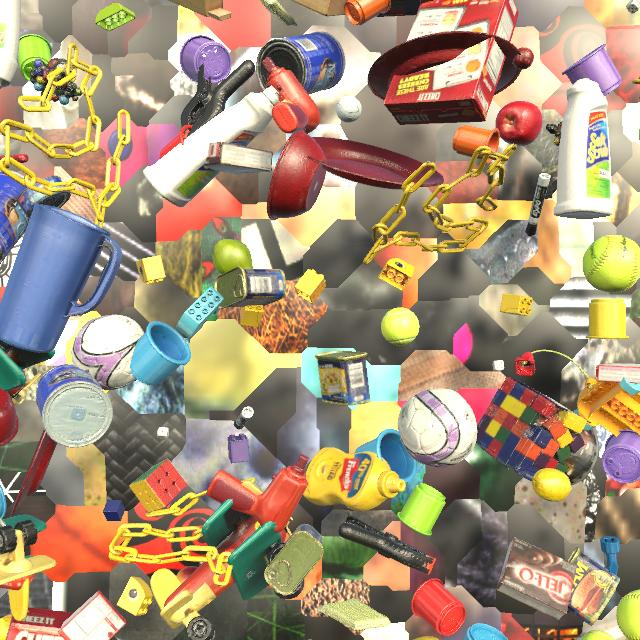ycb_002_master_chef_can: (35, 364, 113, 448), (256, 31, 345, 95), (0, 170, 31, 264)
ycb_003_cracker_box: (383, 0, 519, 125), (6, 608, 103, 640)
ycb_005_tomato_soup_can: (0, 518, 6, 527)
ycb_006_mustard_bottle: (303, 447, 406, 511)
ycb_007_tuna_fish_can: (16, 175, 71, 219)
ycb_008_pudding_box: (496, 537, 577, 620), (204, 142, 273, 174)
ycb_009_gelatin_box: (58, 590, 126, 640), (596, 363, 640, 384)
ycb_010_potted_meat_can: (264, 524, 323, 595), (567, 547, 620, 626), (315, 351, 370, 406), (214, 267, 286, 309)
ycb_011_banana: (413, 636, 439, 640)
ycb_013_apple: (495, 101, 543, 146)
ycb_014_lemon: (532, 468, 572, 502), (0, 614, 12, 640)
ycb_015_peach: (176, 566, 198, 583)
ycb_016_pear: (213, 239, 254, 274)
